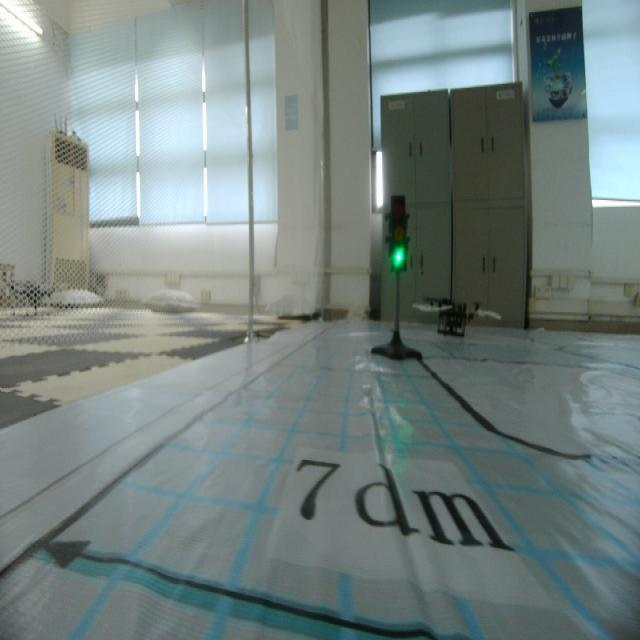green: (385, 196, 412, 275)
